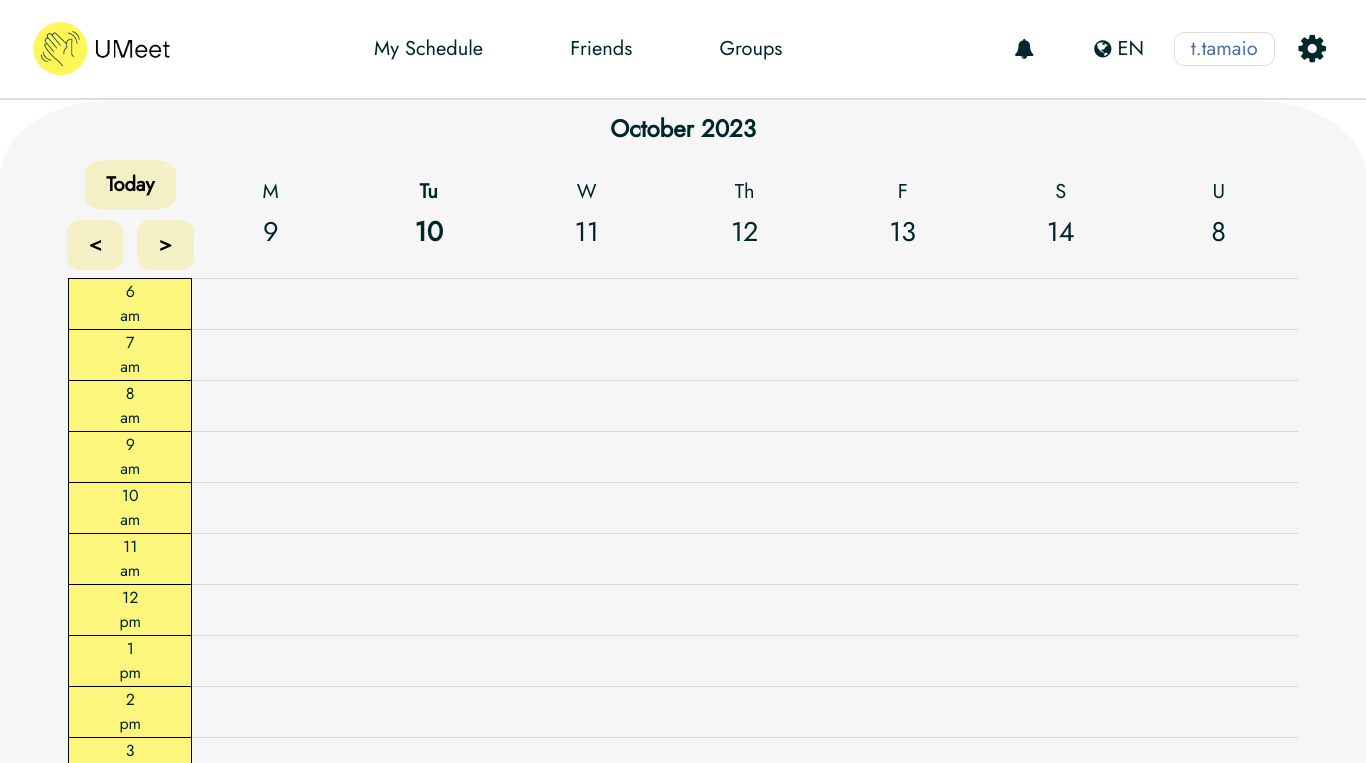
Test case: goes to previous week
Step 1. Click the button "<" → (95, 245), box x1=67 y1=220 x2=123 y2=270
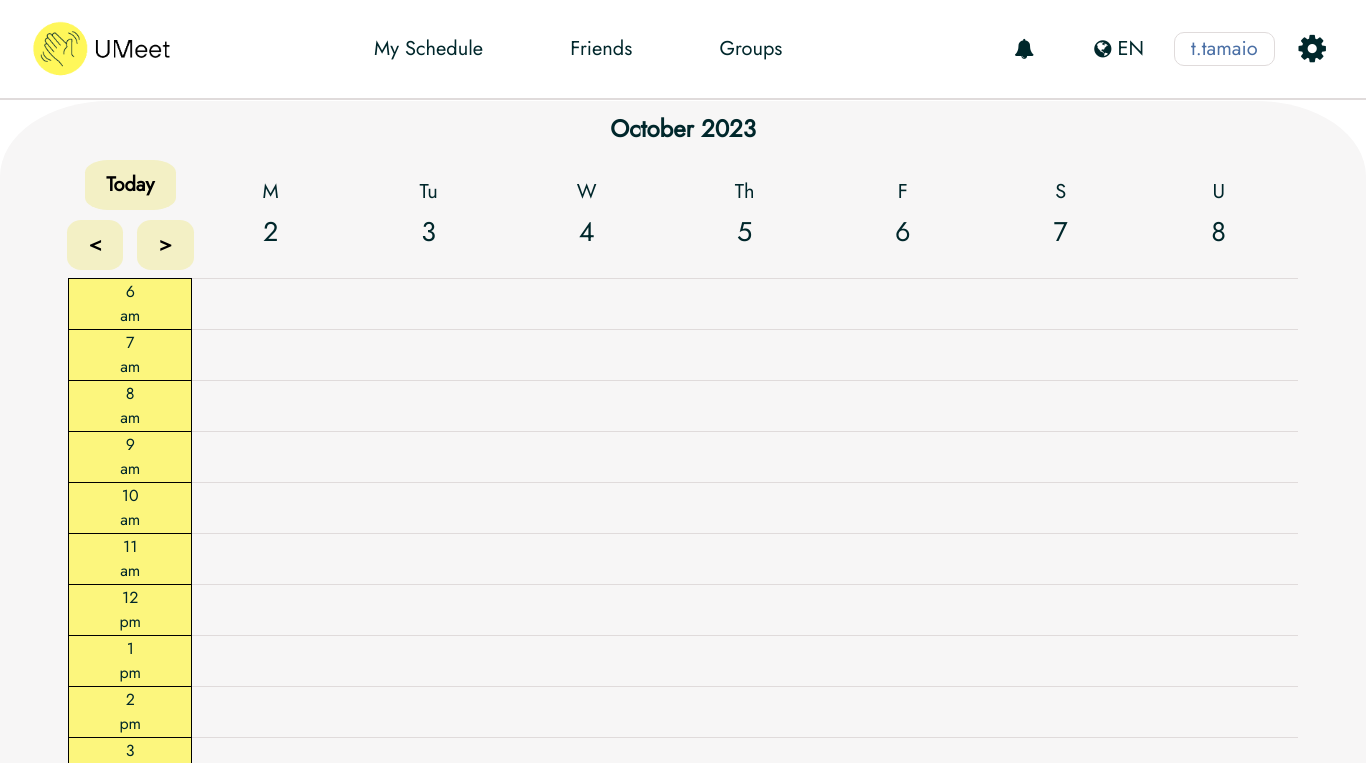
Expected: the text with test id "timetable-title" shows "October", x1=610 y1=111 x2=756 y2=146
Result: the text "3" is shown at x1=421 y1=212 x2=436 y2=251
